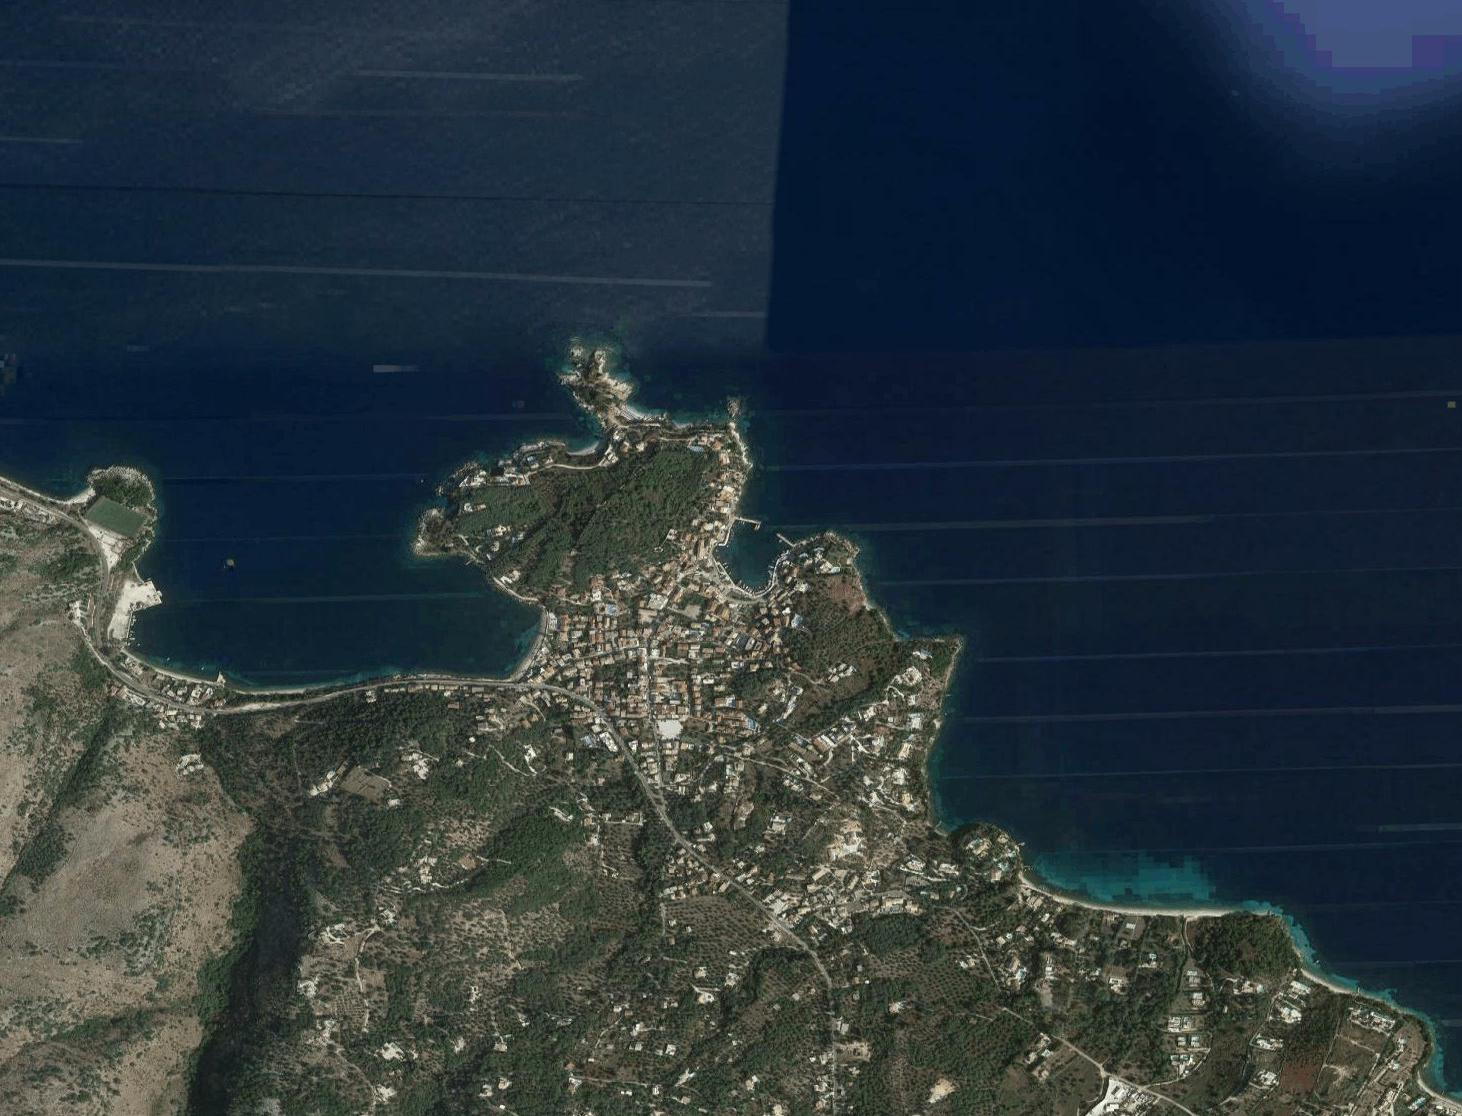harbor: (709, 497, 809, 610)
